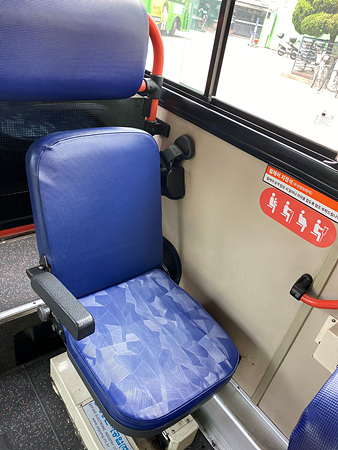seat: (23, 127, 240, 432)
